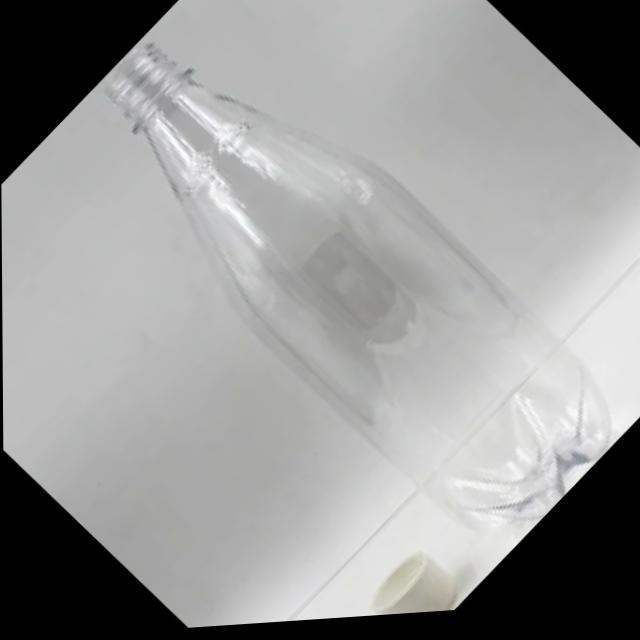plastic_soda_bottles: (53, 0, 640, 591)
